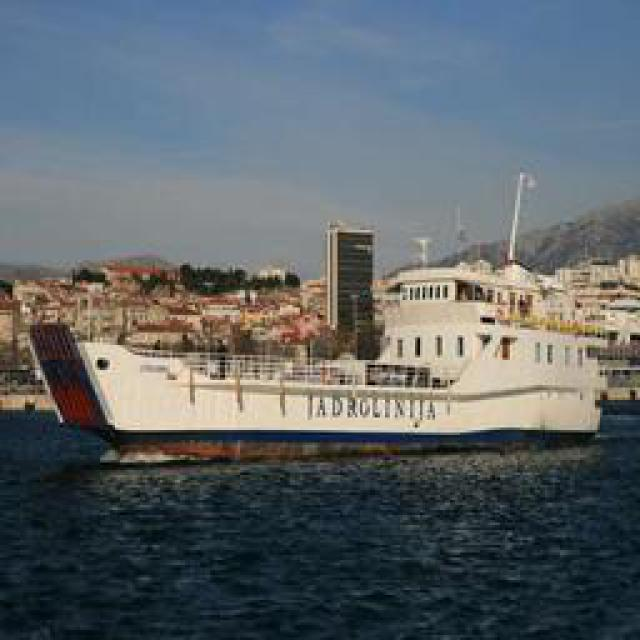Ship: (39, 289, 614, 462)
